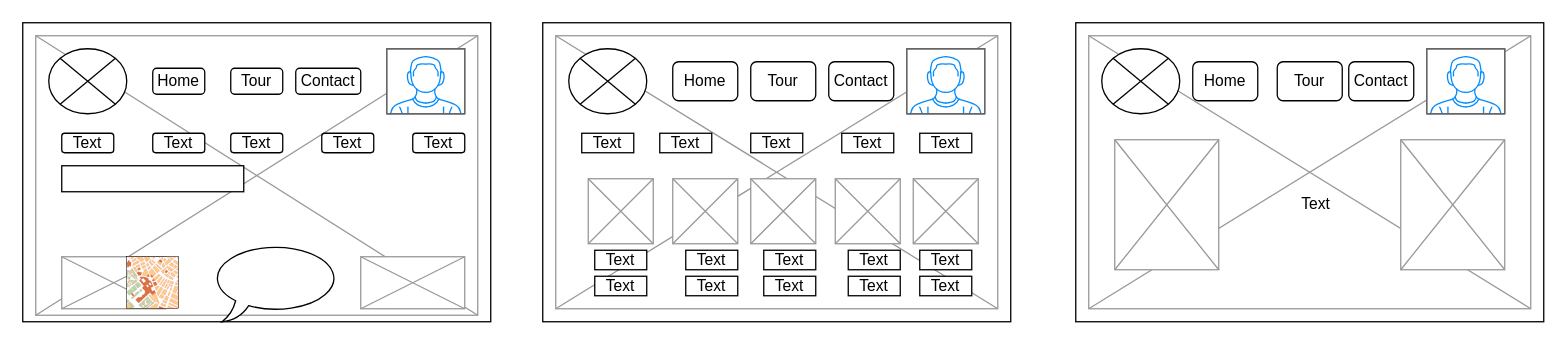
Image size: 1567x345. Some labels were removed from this diagram. The shapes that lost their labels are listed below. From the top down, each one's centre as x and y in pixels, then its label:
At (x=152, y=178): "Search bar".
At (x=275, y=282): "Comment".
